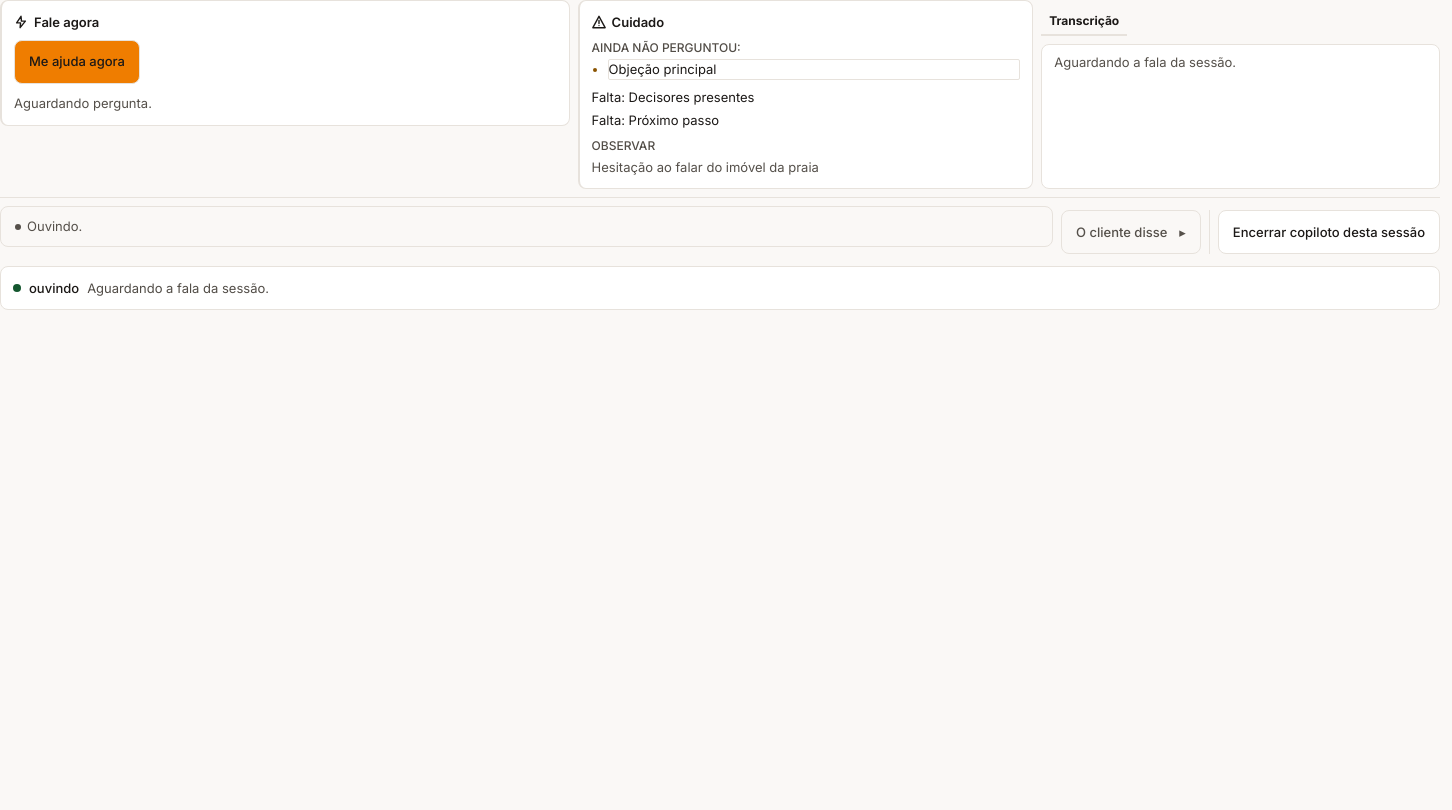
Test: PainelCopiloto › Fale agora mostra a pergunta pedida, sem inventar nada além do payload
What coordinates should you click on to do the following:
click the button "Me ajuda agora"
I would click on:
 (77, 62)
Its box is left=14, top=40, right=140, bottom=84.
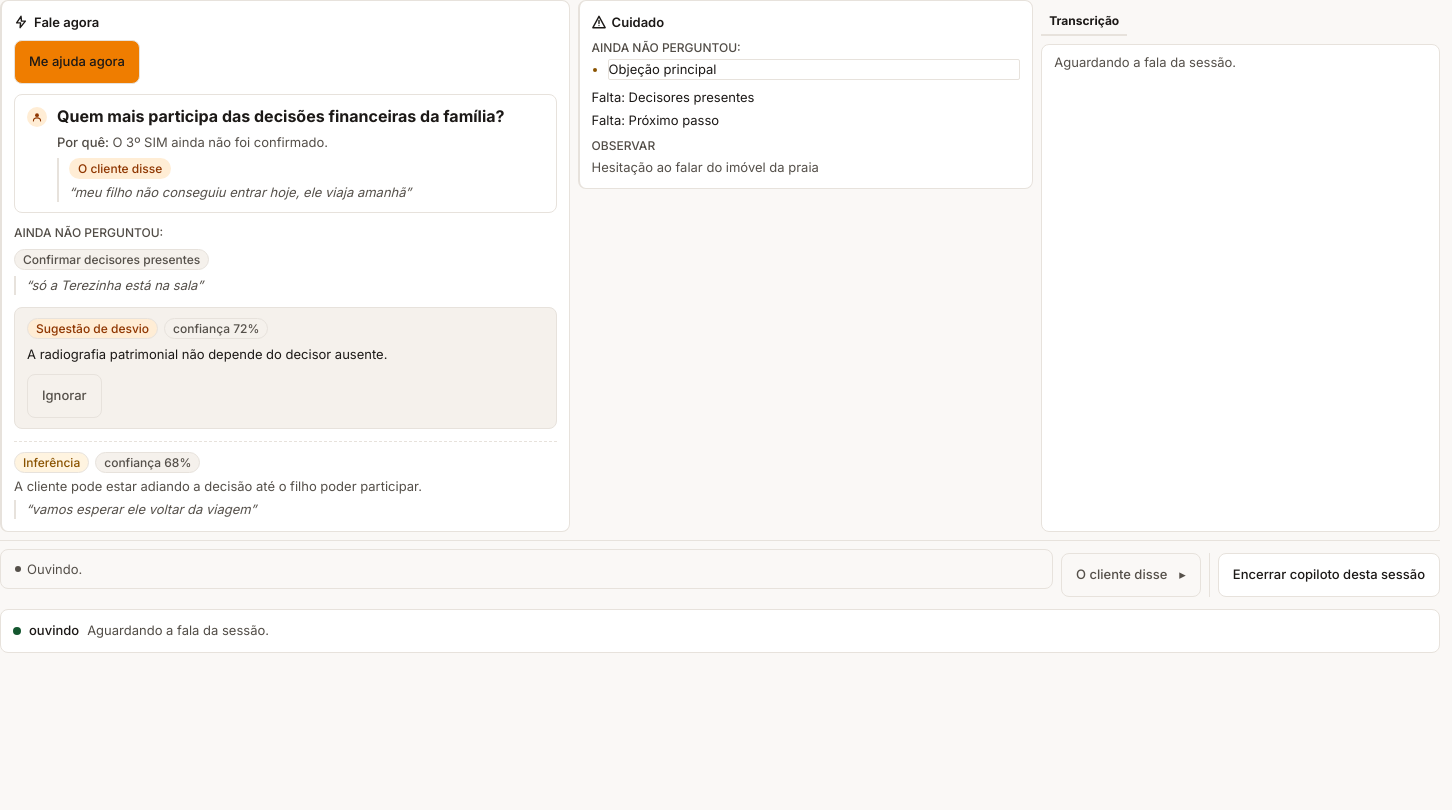
Expected: the text "Fale agora" is shown, left=14, top=13, right=99, bottom=32
Expected: the text "Quem mais participa das decisões financeiras" is shown, left=57, top=106, right=504, bottom=126
